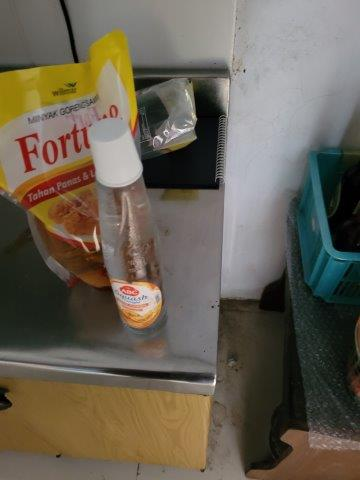botolkaca: (88, 121, 168, 333)
